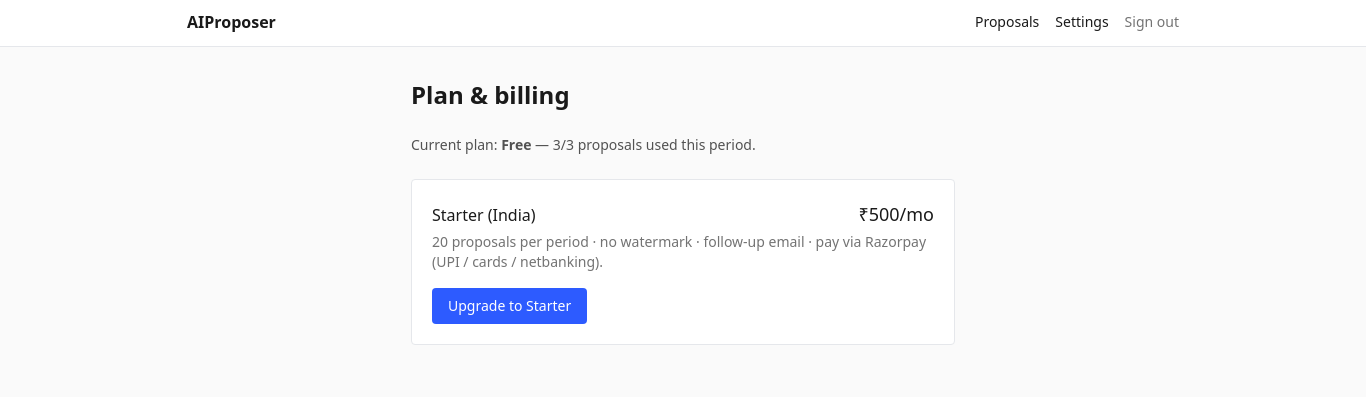
Test case: payment.failed -> error note with the reason, button back to idle (AC 5)
Expected: the text "Current plan: Free — 3/3 proposals used this period." is shown, [411,135,756,154]
Step 1. Click the button "Upgrade to Starter" → (510, 306), box [432,288,587,324]
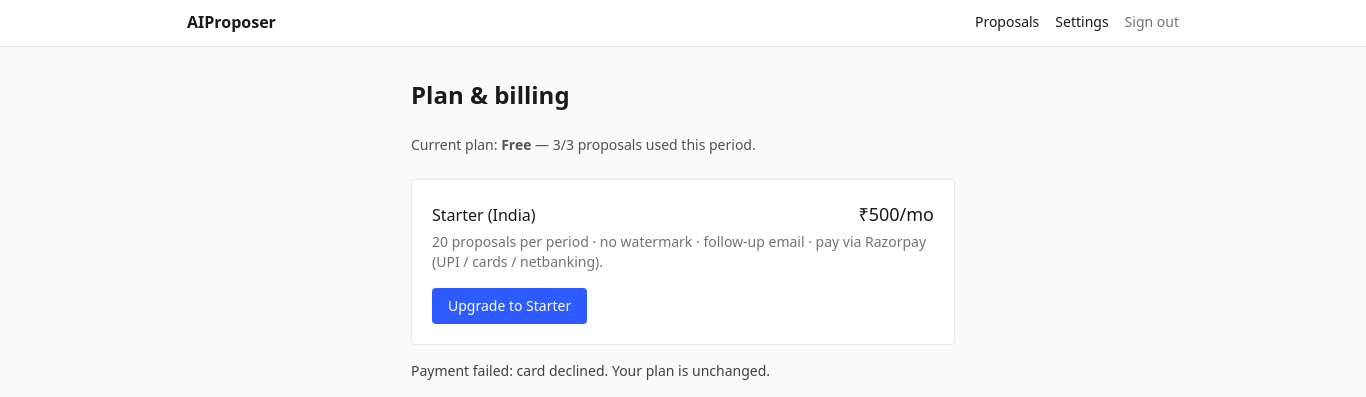
Now the text "Payment failed: card declined. Your plan is unchanged." is shown, box [411,361,770,380]
